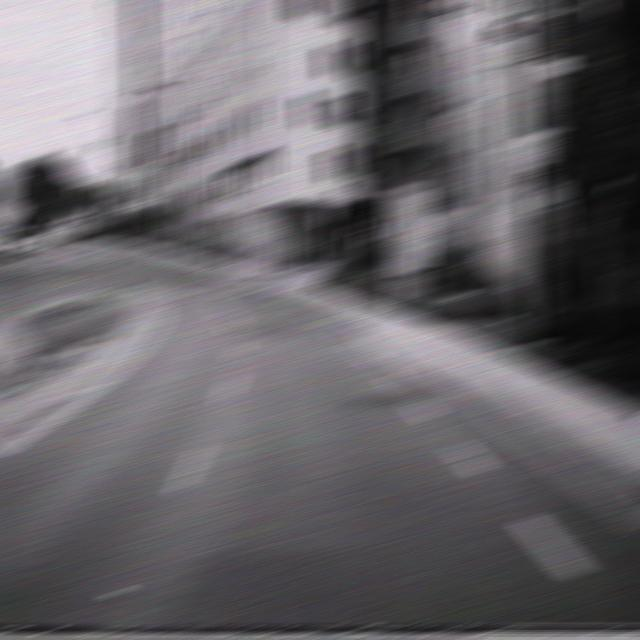stop: (104, 198, 128, 223), (315, 200, 337, 225)
